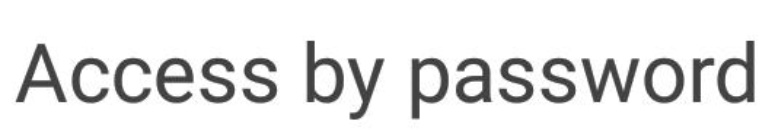TextView: (1, 1, 774, 139)
